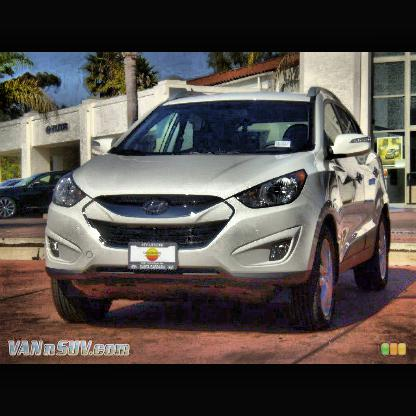Hyundai Tucson SUV 2012: (47, 88, 393, 331)
